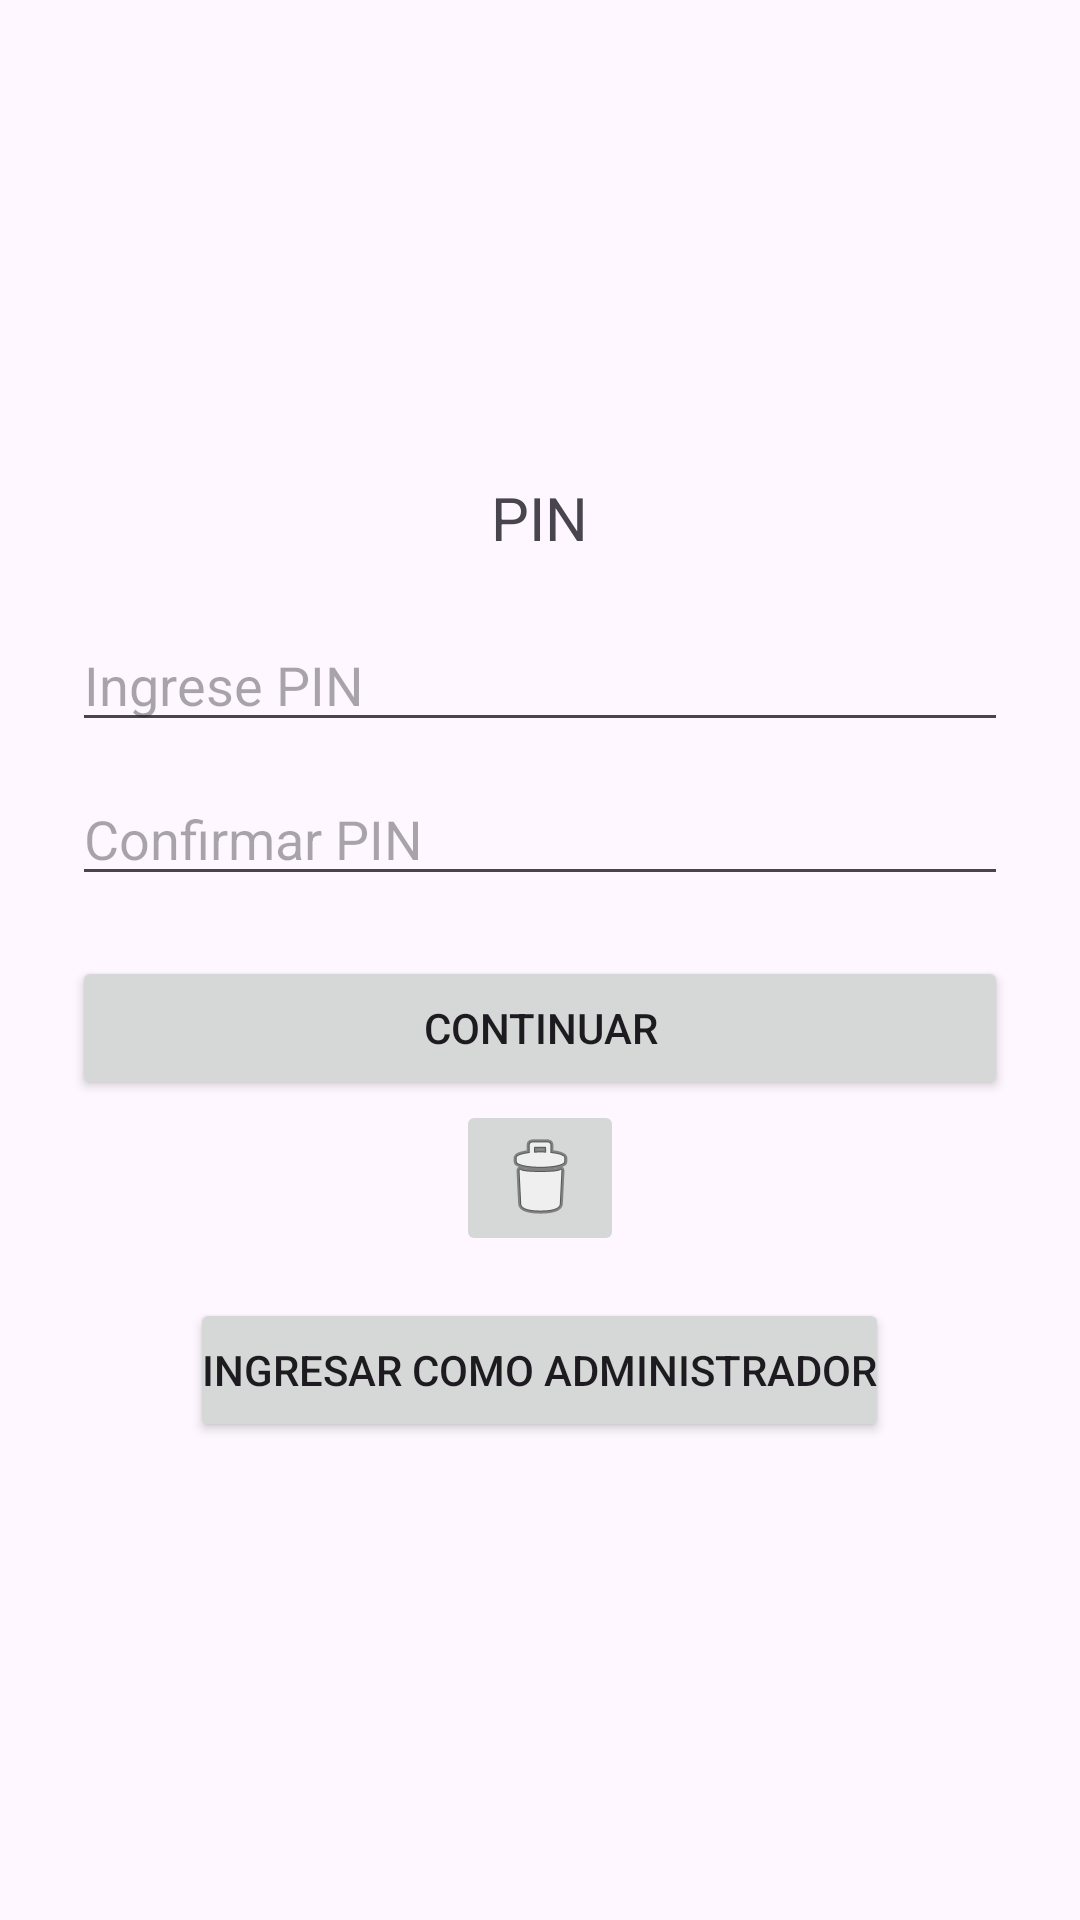

Icon click points for this 1080px×1920px phone screenshot, format [x,y]:
delete: [540,1178]
